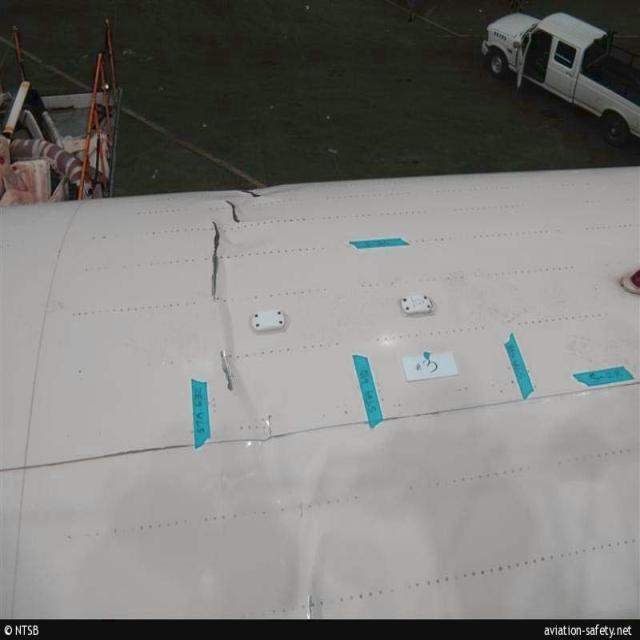crack: (212, 218, 222, 304), (218, 348, 236, 392), (222, 199, 242, 227)
